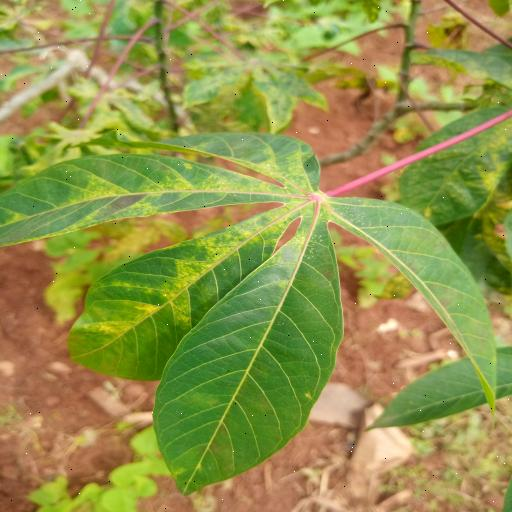Cassava_Mosaic: (5, 129, 500, 500)
